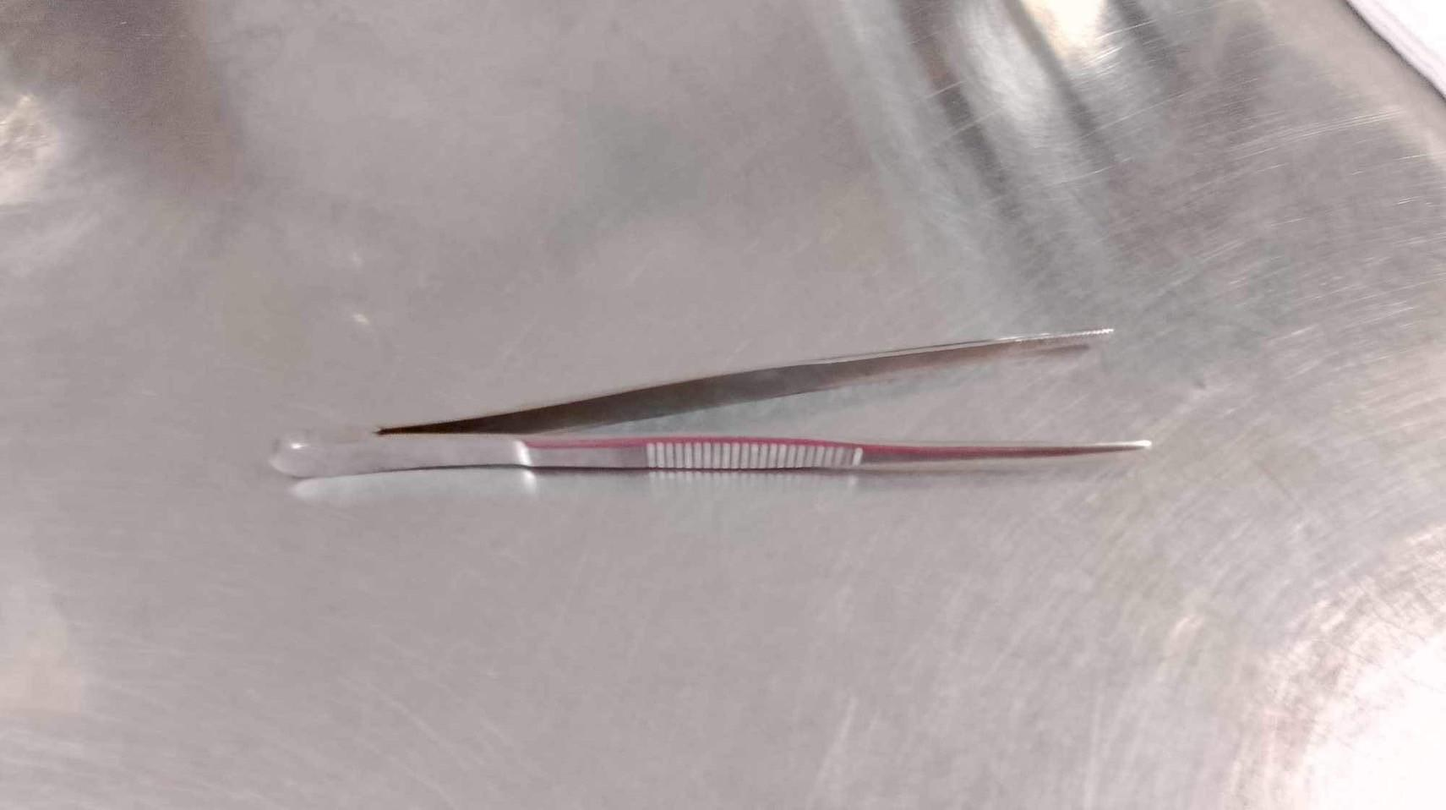Pathological: (7, 3, 1438, 805)
Sharps: (371, 325, 1116, 435), (268, 429, 1154, 479)
